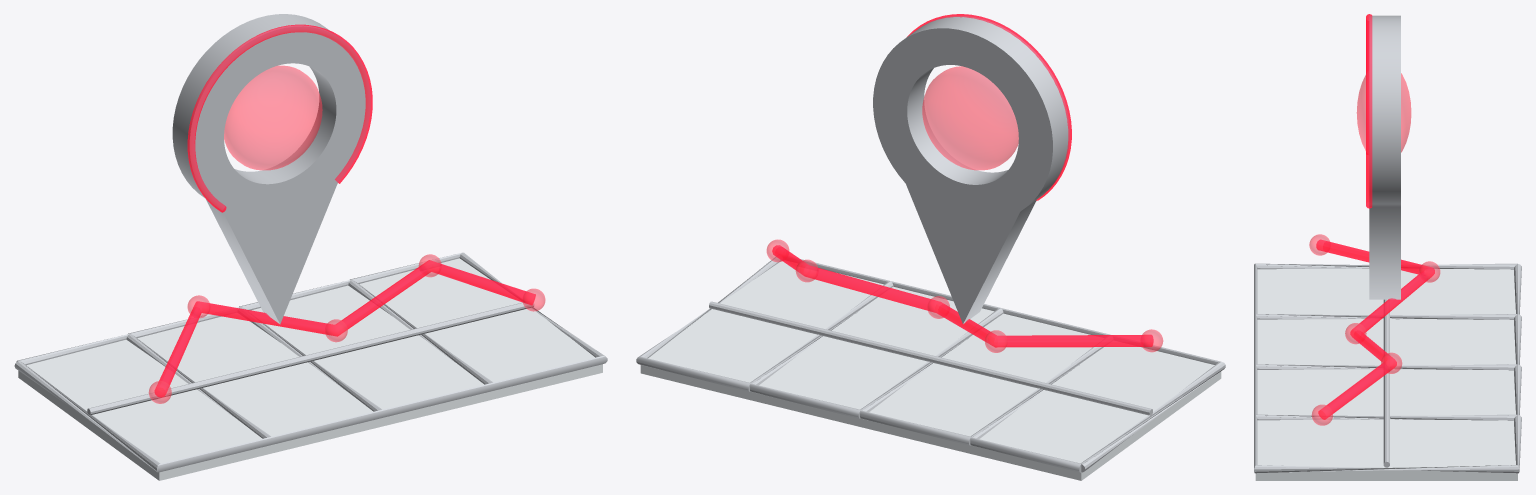
Rendered from 18-map.glb.
The picture shows the model from 3 angles, left to right: view 1: azimuth 30°, elevation 25°; view 2: azimuth 150°, elevation 25°; view 3: azimuth 270°, elevation 25°; orthographic projection. The views are drawn at different scales.
Visible parts, largest first — view 1: BC clear optical glass, BC satin silver metal, BC ruby optical glass, BC neon red glass edge; view 2: BC clear optical glass, BC satin silver metal, BC ruby optical glass, BC neon red glass edge; view 3: BC clear optical glass, BC satin silver metal, BC neon red glass edge, BC ruby optical glass.
Boxes of the visible parts, box(x1,y1,x2,y2) form: BC clear optical glass: box(18, 258, 602, 480); BC satin silver metal: box(14, 14, 607, 472); BC ruby optical glass: box(148, 65, 545, 403); BC neon red glass edge: box(154, 24, 535, 397); BC clear optical glass: box(640, 261, 1221, 480); BC satin silver metal: box(636, 16, 1225, 472); BC ruby optical glass: box(766, 66, 1163, 352); BC neon red glass edge: box(772, 14, 1153, 347); BC clear optical glass: box(1255, 268, 1517, 480); BC satin silver metal: box(1254, 15, 1521, 473); BC neon red glass edge: box(1316, 14, 1434, 419); BC ruby optical glass: box(1309, 73, 1440, 425).
Bounding box in the file's own units: 2.03 × 1.57 × 1.12.
